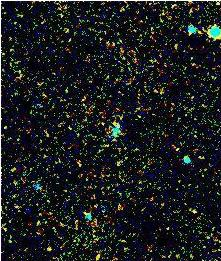star: (35, 231, 65, 261)
